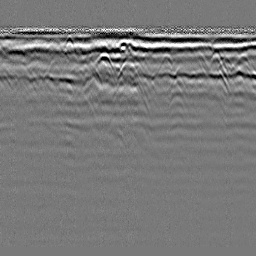cavity: (116, 60, 141, 81)
